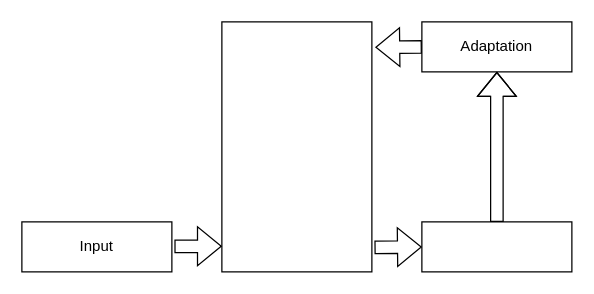
Image size: 594x294. Some labels were removed from this diagram. The shapes that lost their labels are listed below. From the top down, each one's centre as x and y in pixels, then its label:
At (x=296, y=146): "Machine Learning Algorithm".
At (x=496, y=246): "Output".
